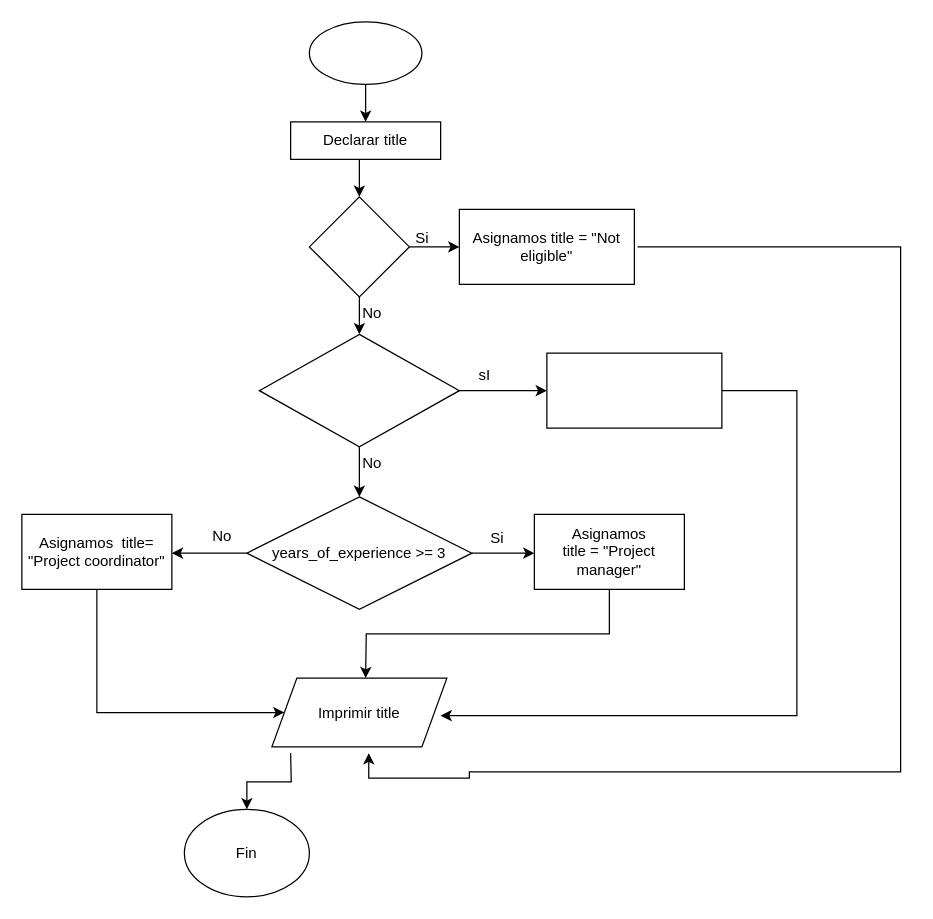
This 933x919 diagram has some shape labels left out. The centre of each missing label's shape, as x and y in pixels:
age < 18: (358,246)
Asignamos title = "Senior project manager": (634,390)
Inicio: (365,52)
years_of_experience >= 5: (358,390)
